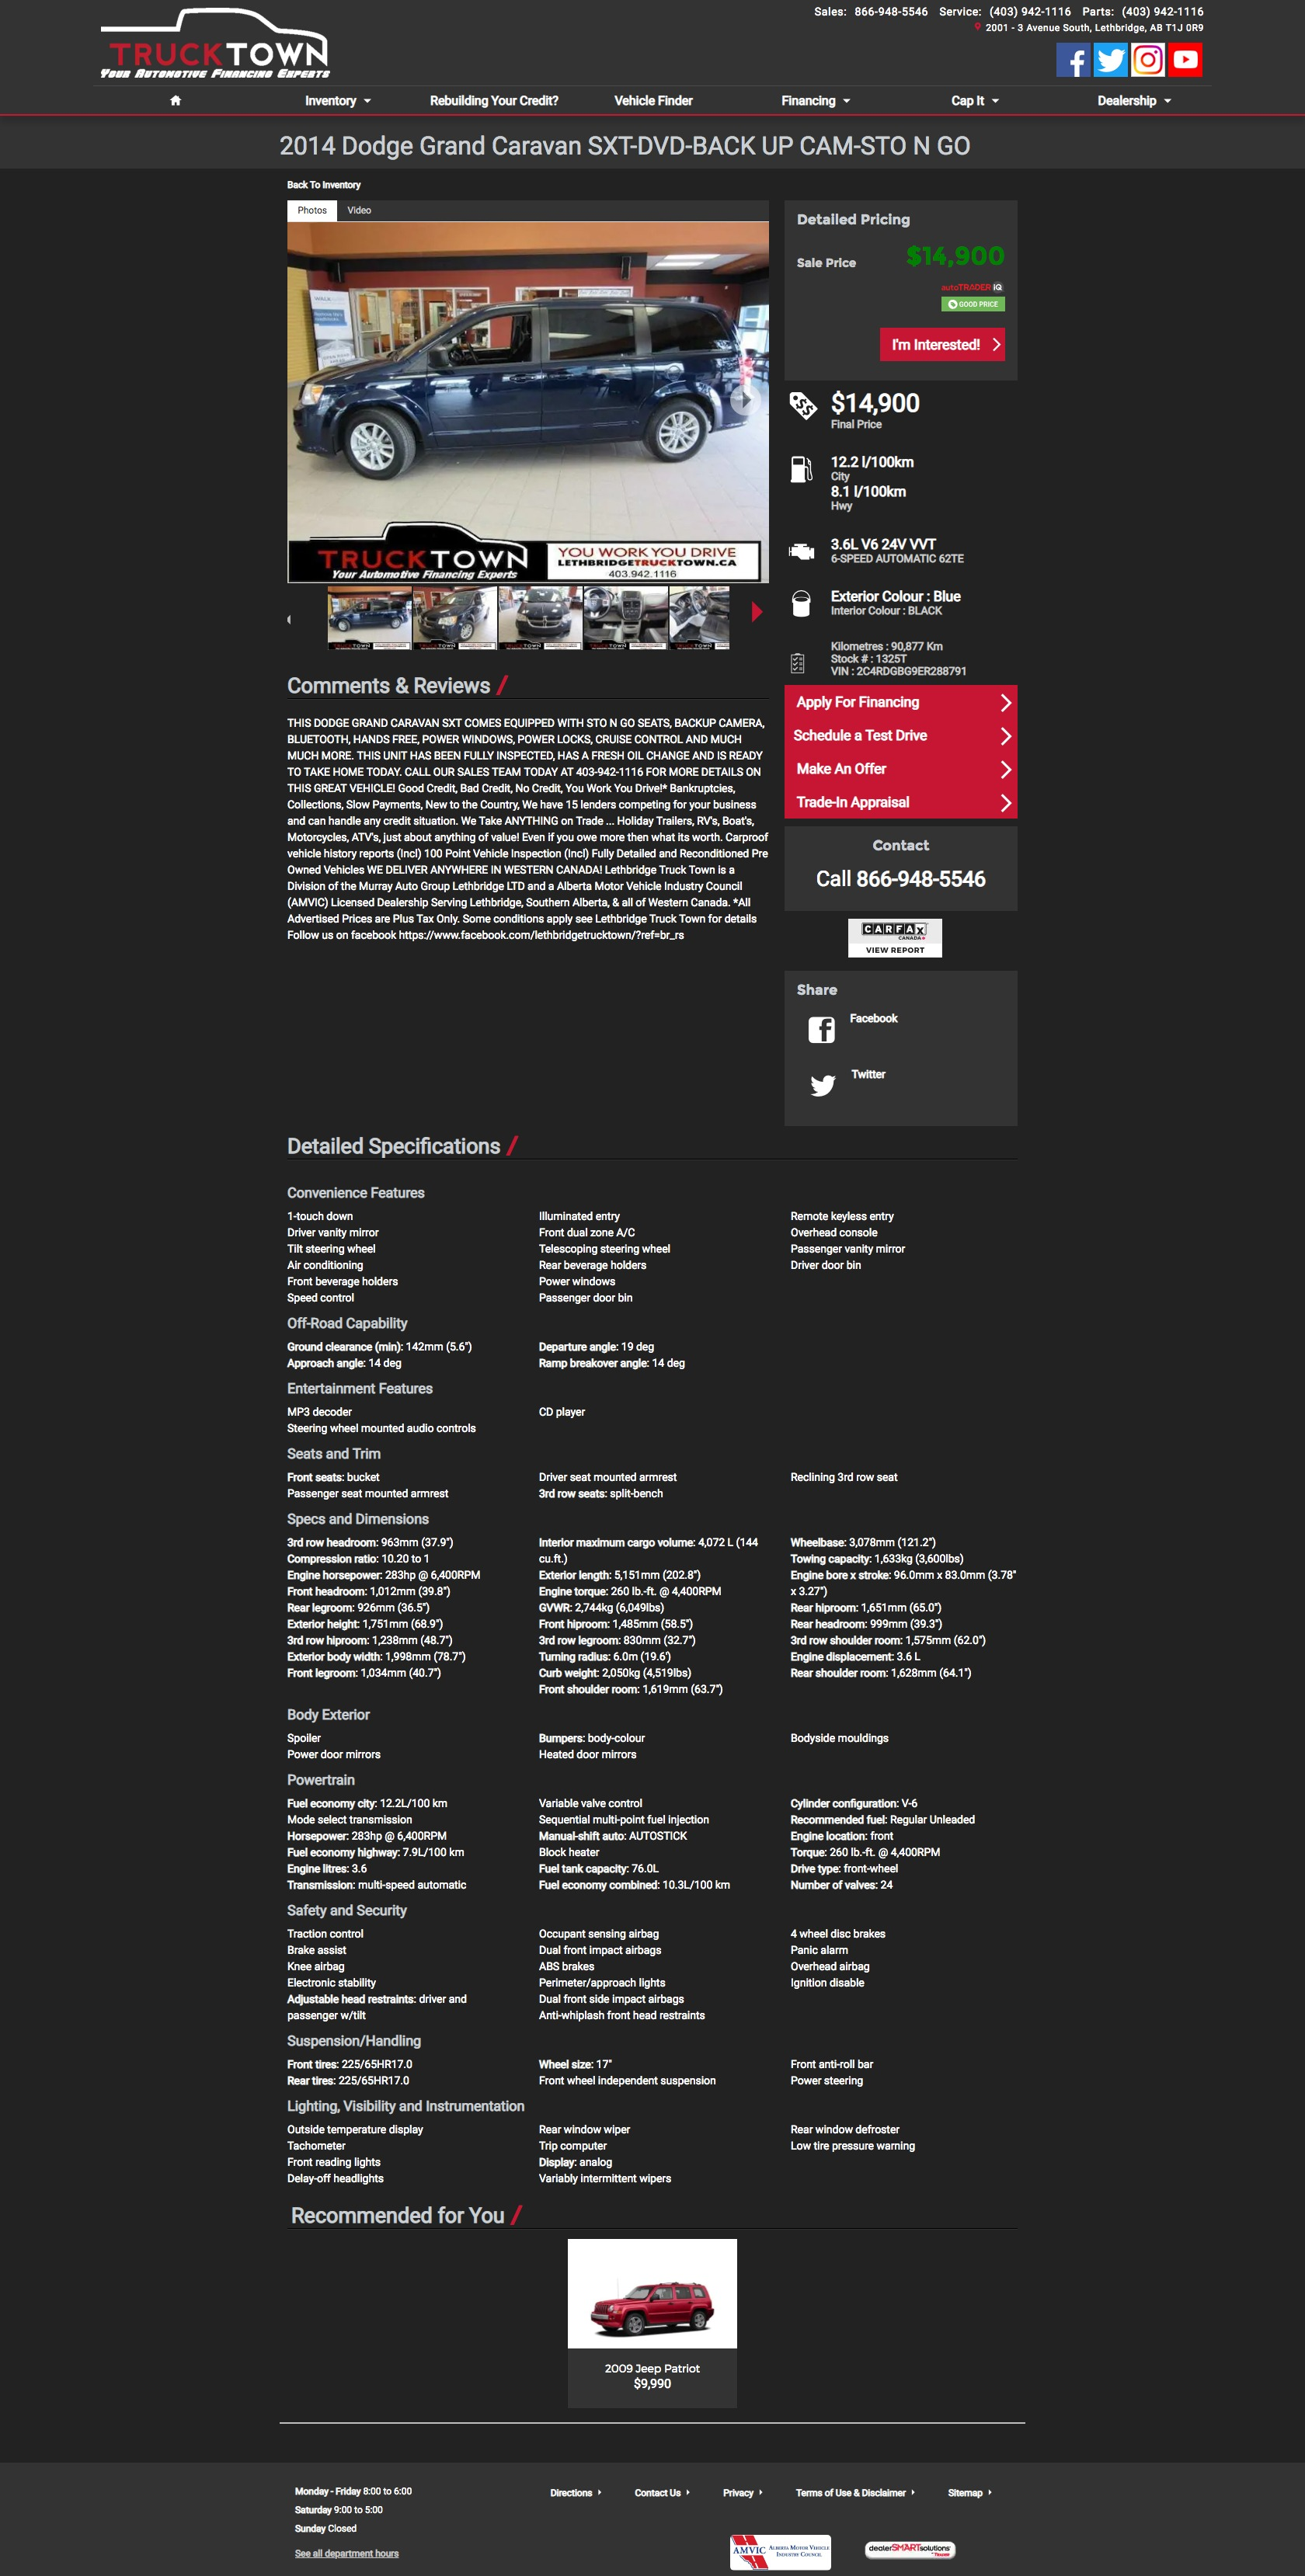car: (752, 601, 764, 622)
